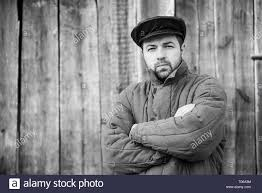white_male: (138, 35, 184, 82)
